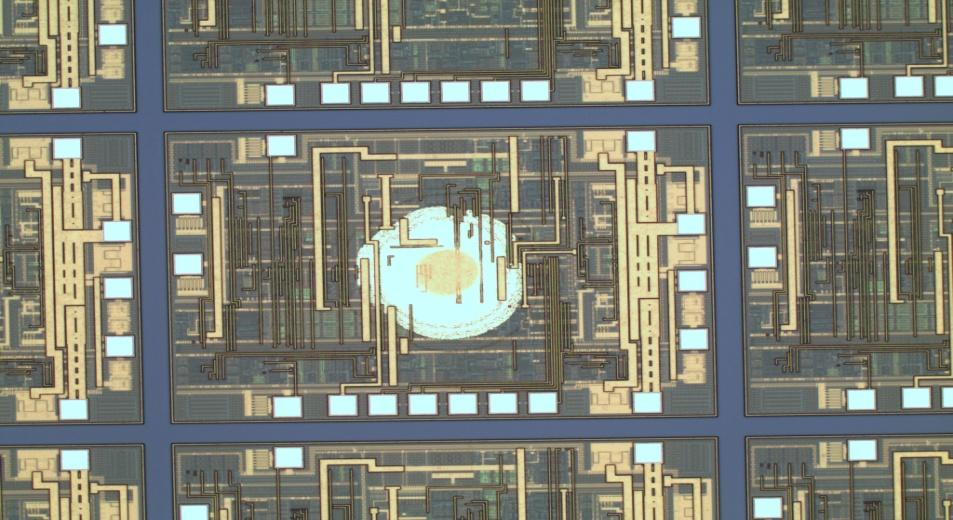BLOCK ETCH: (342, 189, 547, 361)
